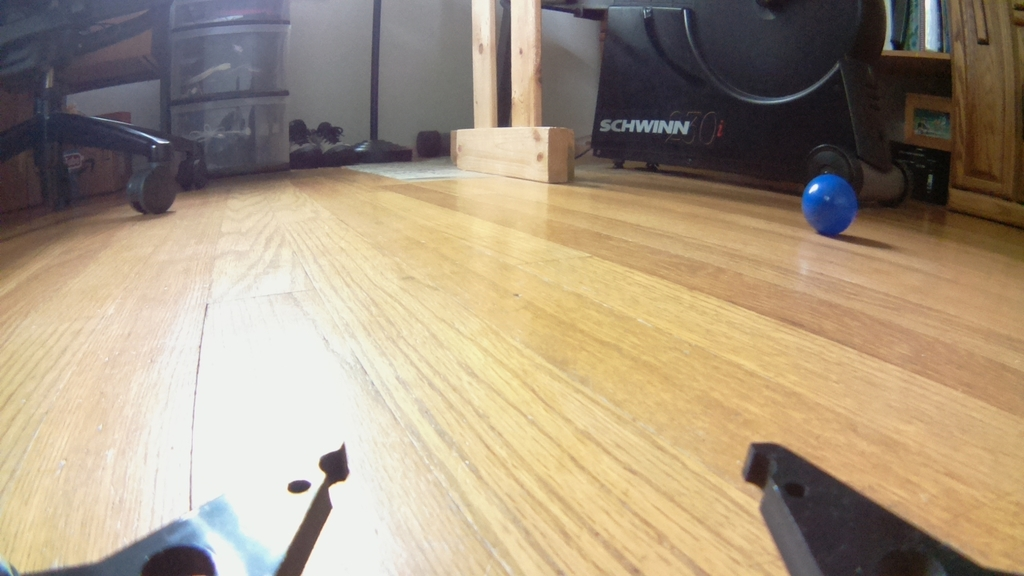ball: (798, 169, 859, 238)
